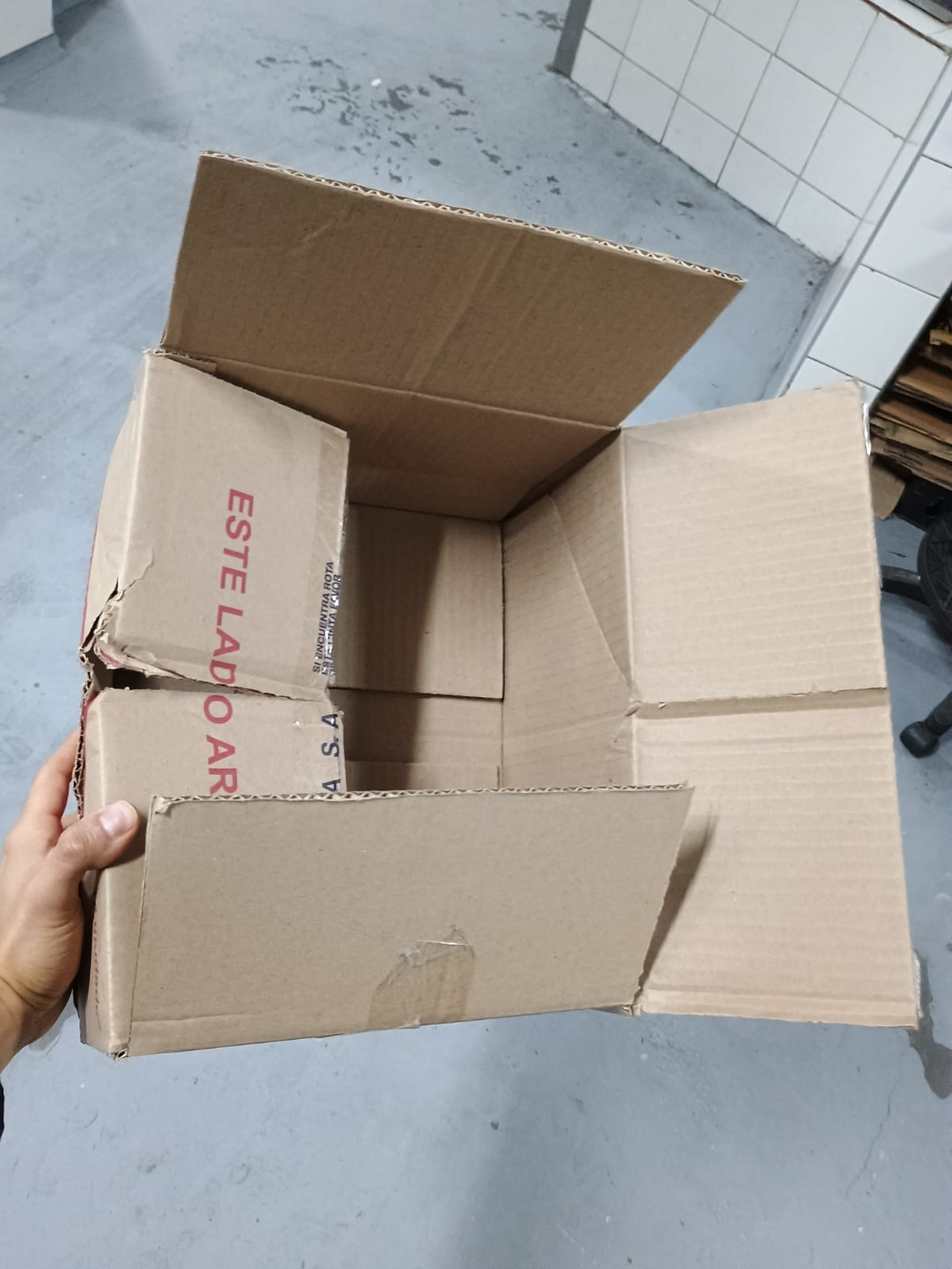Carton: (83, 149, 921, 1058)
